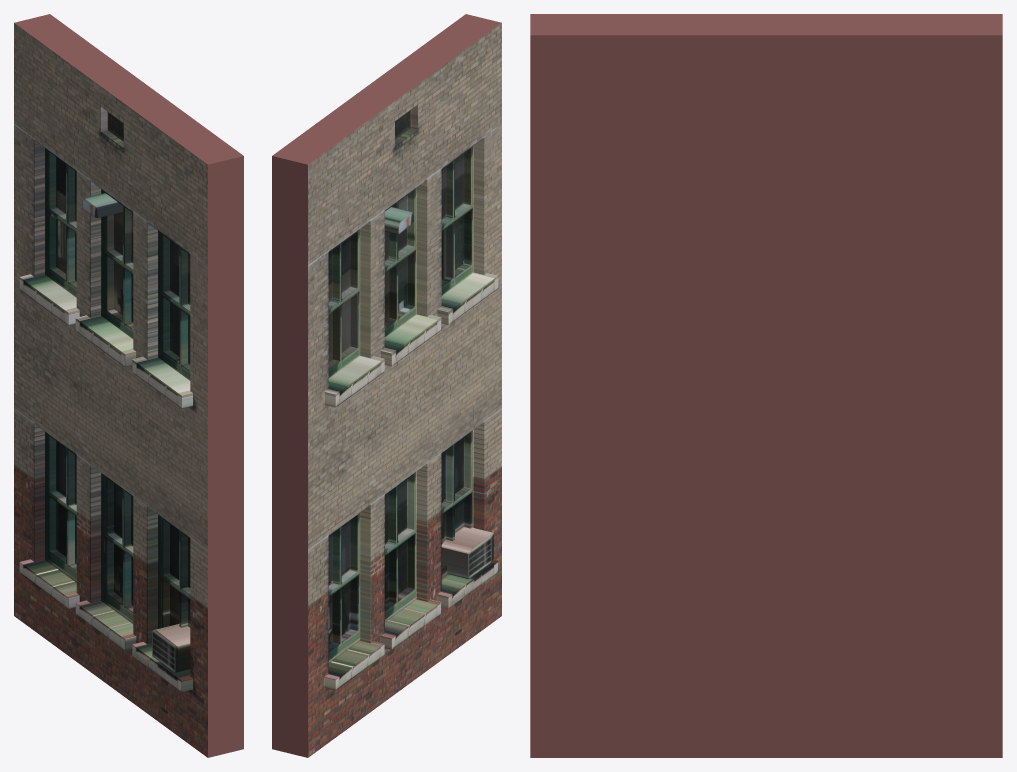
File: facade5.fbx
3 views of the same model, side by side, from view 1: azimuth 30°, elevation 25°; view 2: azimuth 150°, elevation 25°; view 3: azimuth 270°, elevation 25° (orthographic). The views are drawn at different scales.
Visible parts, largest first — view 1: facade5.002; view 2: facade5.002; view 3: facade5.002.
Boxes of the visible parts, box(x1,y1,x2,y2) form: facade5.002: box(14, 14, 243, 757); facade5.002: box(272, 14, 501, 757); facade5.002: box(530, 14, 1002, 757).
Size of the model in its own units: 2.93 by 35.3 by 20.91.
2 materials, 2 textured.
